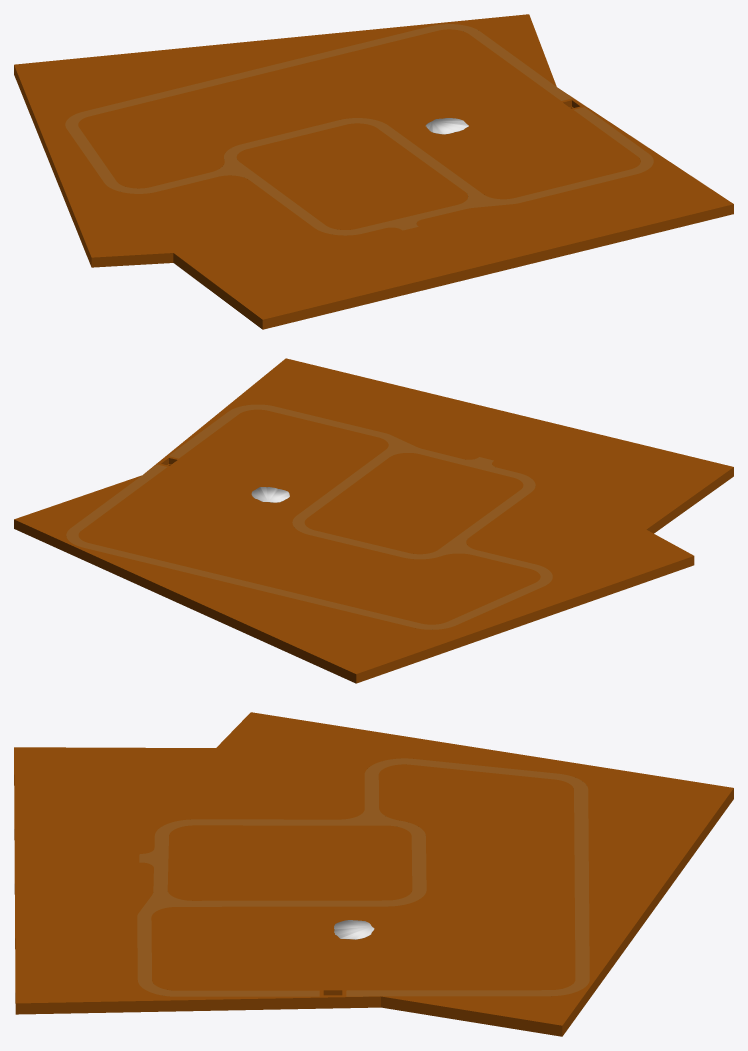
File: Ho+miengho.fbx
3 views of the same model, one above another, from view 1: azimuth 30°, elevation 25°; view 2: azimuth 150°, elevation 25°; view 3: azimuth 270°, elevation 25° (orthographic). The views are drawn at different scales.
Visible parts, largest first — view 1: Toposolid Toposolid 2 [589703], Floor Đường nội bộ [589612], Toposolid Toposolid 2 [589703].002; view 2: Toposolid Toposolid 2 [589703], Floor Đường nội bộ [589612]; view 3: Toposolid Toposolid 2 [589703], Floor Đường nội bộ [589612], Toposolid Toposolid 2 [589703].002.
Boxes of the visible parts, x1=… form: Toposolid Toposolid 2 [589703]: x1=14, y1=14, x2=733, y2=329; Floor Đường nội bộ [589612]: x1=65, y1=24, x2=653, y2=235; Toposolid Toposolid 2 [589703].002: x1=425, y1=118, x2=468, y2=134; Toposolid Toposolid 2 [589703]: x1=14, y1=358, x2=733, y2=683; Floor Đường nội bộ [589612]: x1=66, y1=404, x2=552, y2=629; Toposolid Toposolid 2 [589703]: x1=14, y1=712, x2=733, y2=1036; Floor Đường nội bộ [589612]: x1=137, y1=758, x2=589, y2=996; Toposolid Toposolid 2 [589703].002: x1=334, y1=920, x2=374, y2=939.
Bounding box in the file's own units: 18179 × 666 × 17641.
